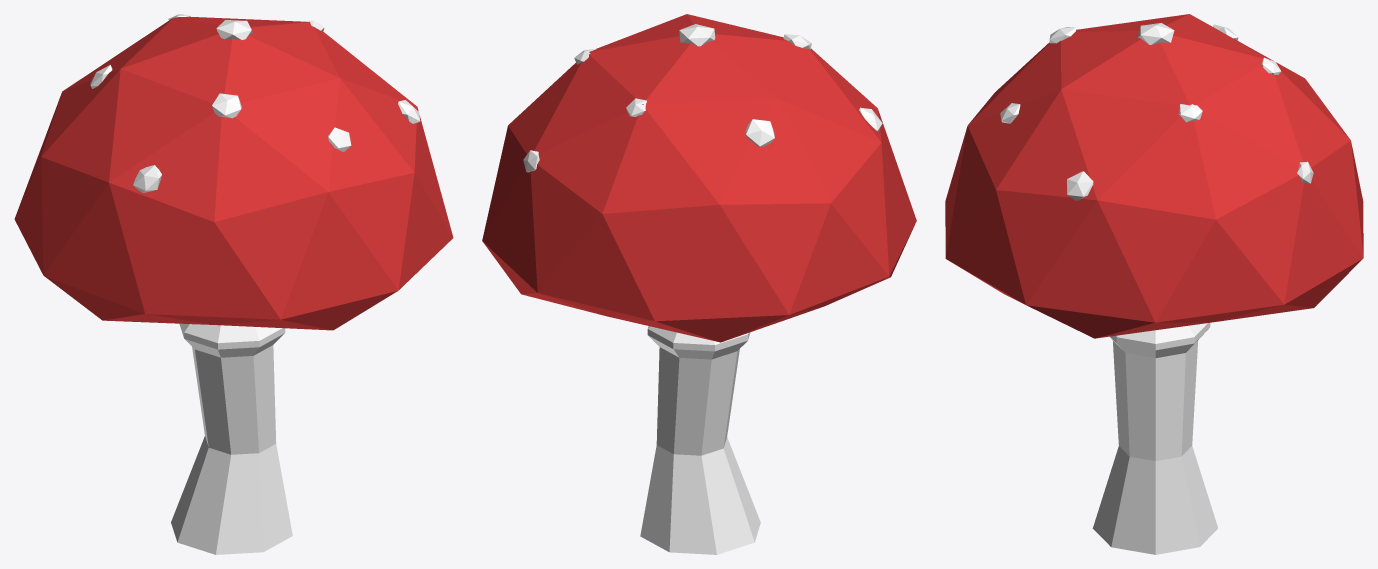
The model's file is Mushroom_02.fbx.
The picture shows the model from 3 angles, left to right: view 1: azimuth 30°, elevation 25°; view 2: azimuth 150°, elevation 25°; view 3: azimuth 270°, elevation 25°; orthographic projection.
Visible parts, largest first — view 1: Mushroom_02; view 2: Mushroom_02; view 3: Mushroom_02.
Boxes of the visible parts, bbox=[...] form: Mushroom_02: bbox=[14, 14, 453, 554]; Mushroom_02: bbox=[482, 14, 916, 554]; Mushroom_02: bbox=[945, 14, 1363, 554].
Bounding box in the file's own units: 0.2572 × 0.3258 × 0.2449.
